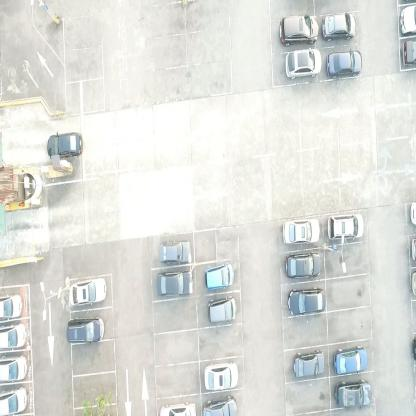car: (285, 48, 322, 81), (287, 286, 326, 317), (68, 275, 107, 306), (280, 15, 319, 46), (335, 378, 373, 409), (282, 216, 321, 246), (326, 211, 364, 241), (333, 344, 368, 376), (203, 360, 239, 391), (155, 268, 193, 297), (66, 315, 104, 344), (285, 250, 322, 279), (321, 12, 356, 42), (46, 131, 82, 160), (292, 348, 326, 378), (326, 50, 362, 78), (204, 259, 234, 291), (158, 239, 191, 265), (207, 296, 238, 323), (0, 386, 28, 415), (0, 321, 28, 349), (0, 354, 28, 382), (202, 395, 237, 415), (0, 291, 23, 320), (160, 400, 196, 416), (398, 6, 416, 36), (402, 39, 416, 65)
